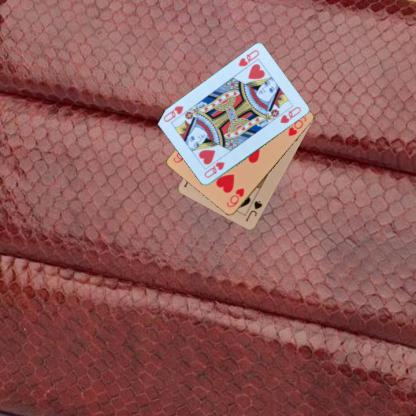6h: (224, 186, 246, 208)
Js: (242, 198, 263, 223)
Qh: (202, 160, 226, 180), (236, 48, 260, 68)
